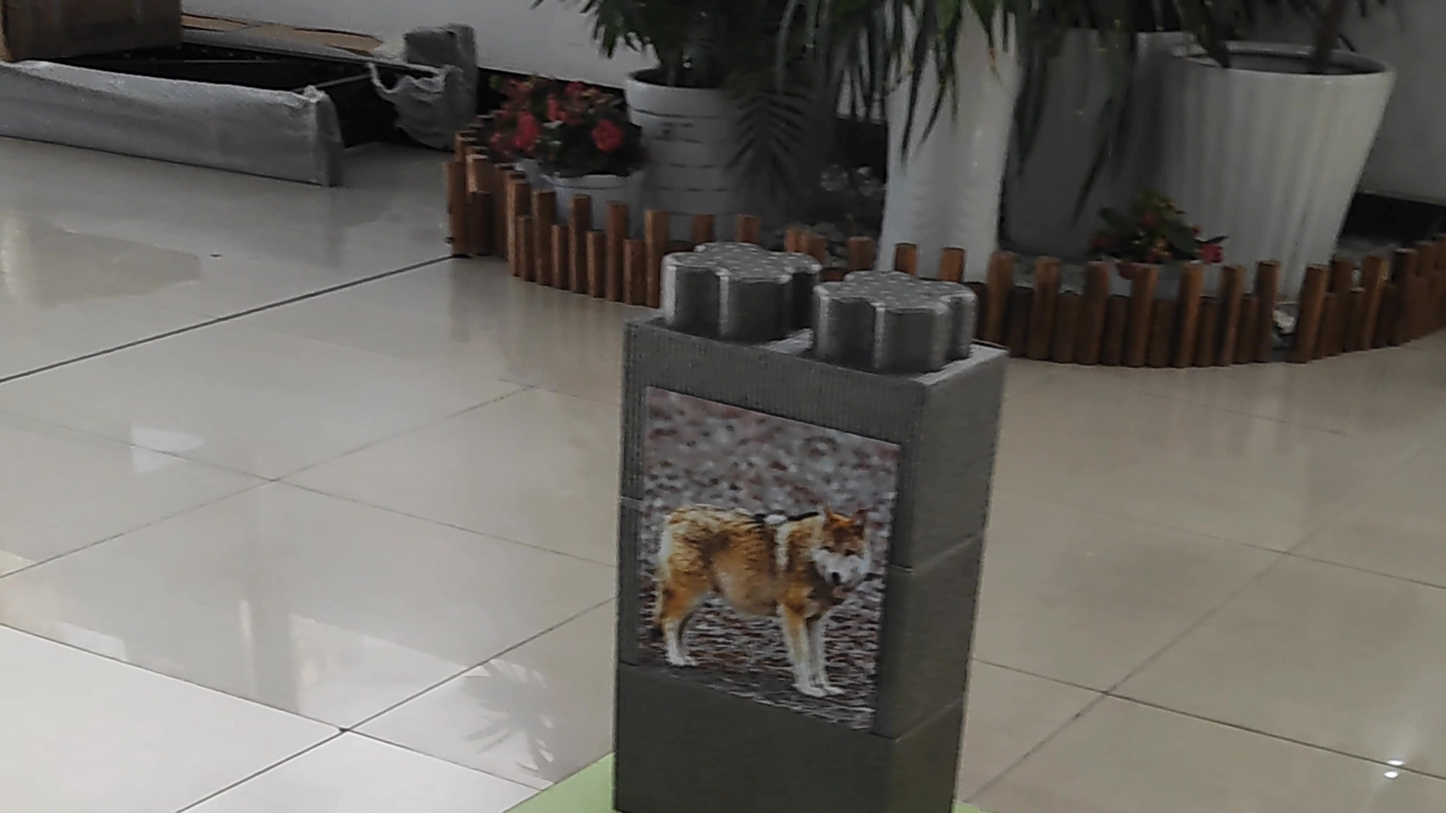wolf: (635, 474, 883, 695)
